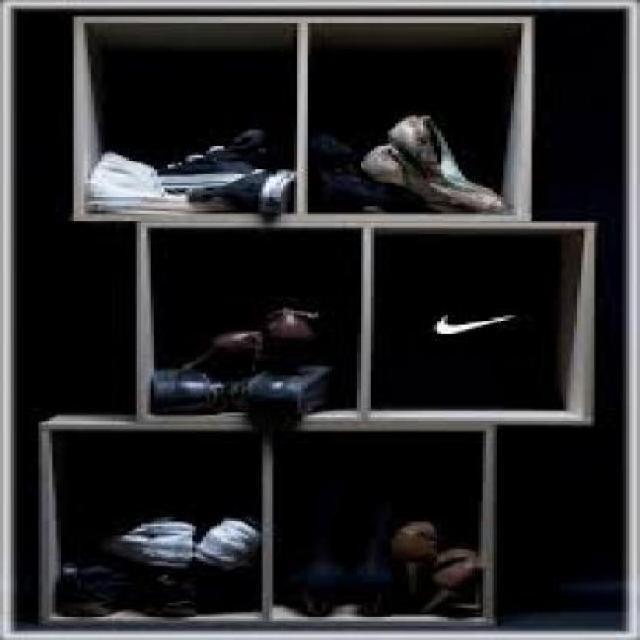Nike: (423, 306, 511, 334)
